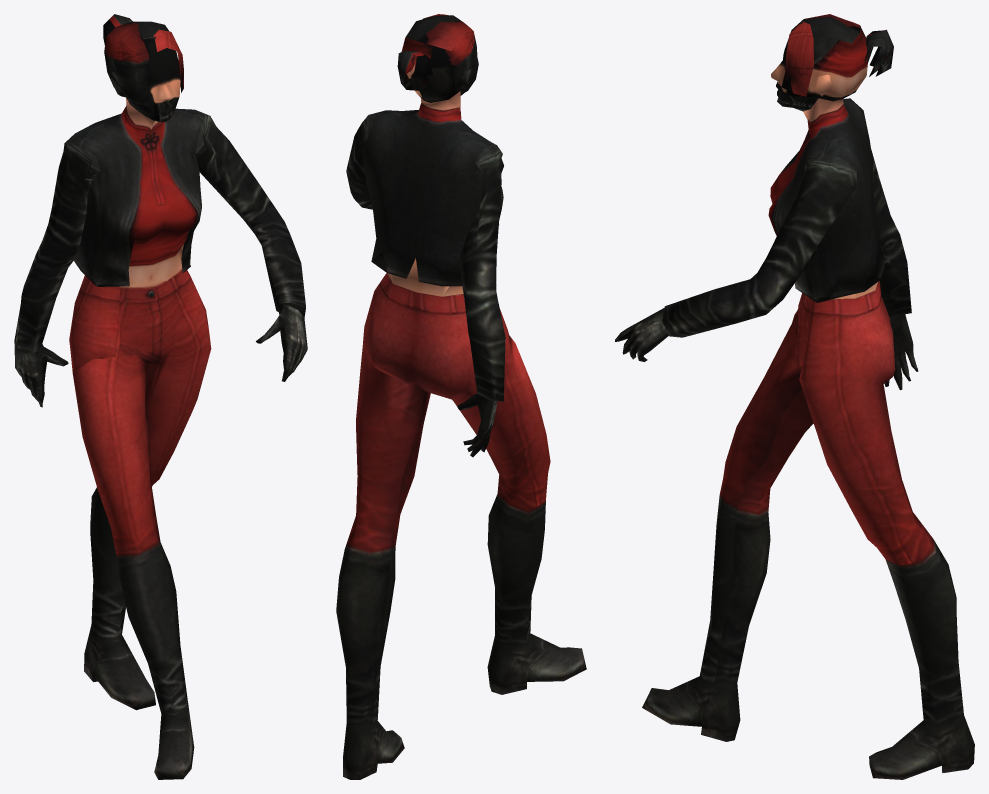
The picture shows the model from 3 angles, left to right: view 1: azimuth 30°, elevation 25°; view 2: azimuth 150°, elevation 25°; view 3: azimuth 270°, elevation 25°; orthographic projection. The views are drawn at different scales.
Visible parts, largest first — view 1: SketchUp (×5); view 2: SketchUp (×4); view 3: SketchUp (×6).
Part boxes in pixels (x1,y1,x2,y2): SketchUp (×5): (14,21,307,779); SketchUp (×4): (336,15,586,779); SketchUp (×6): (615,14,974,779).
Size of the model in its own units: 66.68 by 94.66 by 215.
2 materials, 2 textured.
